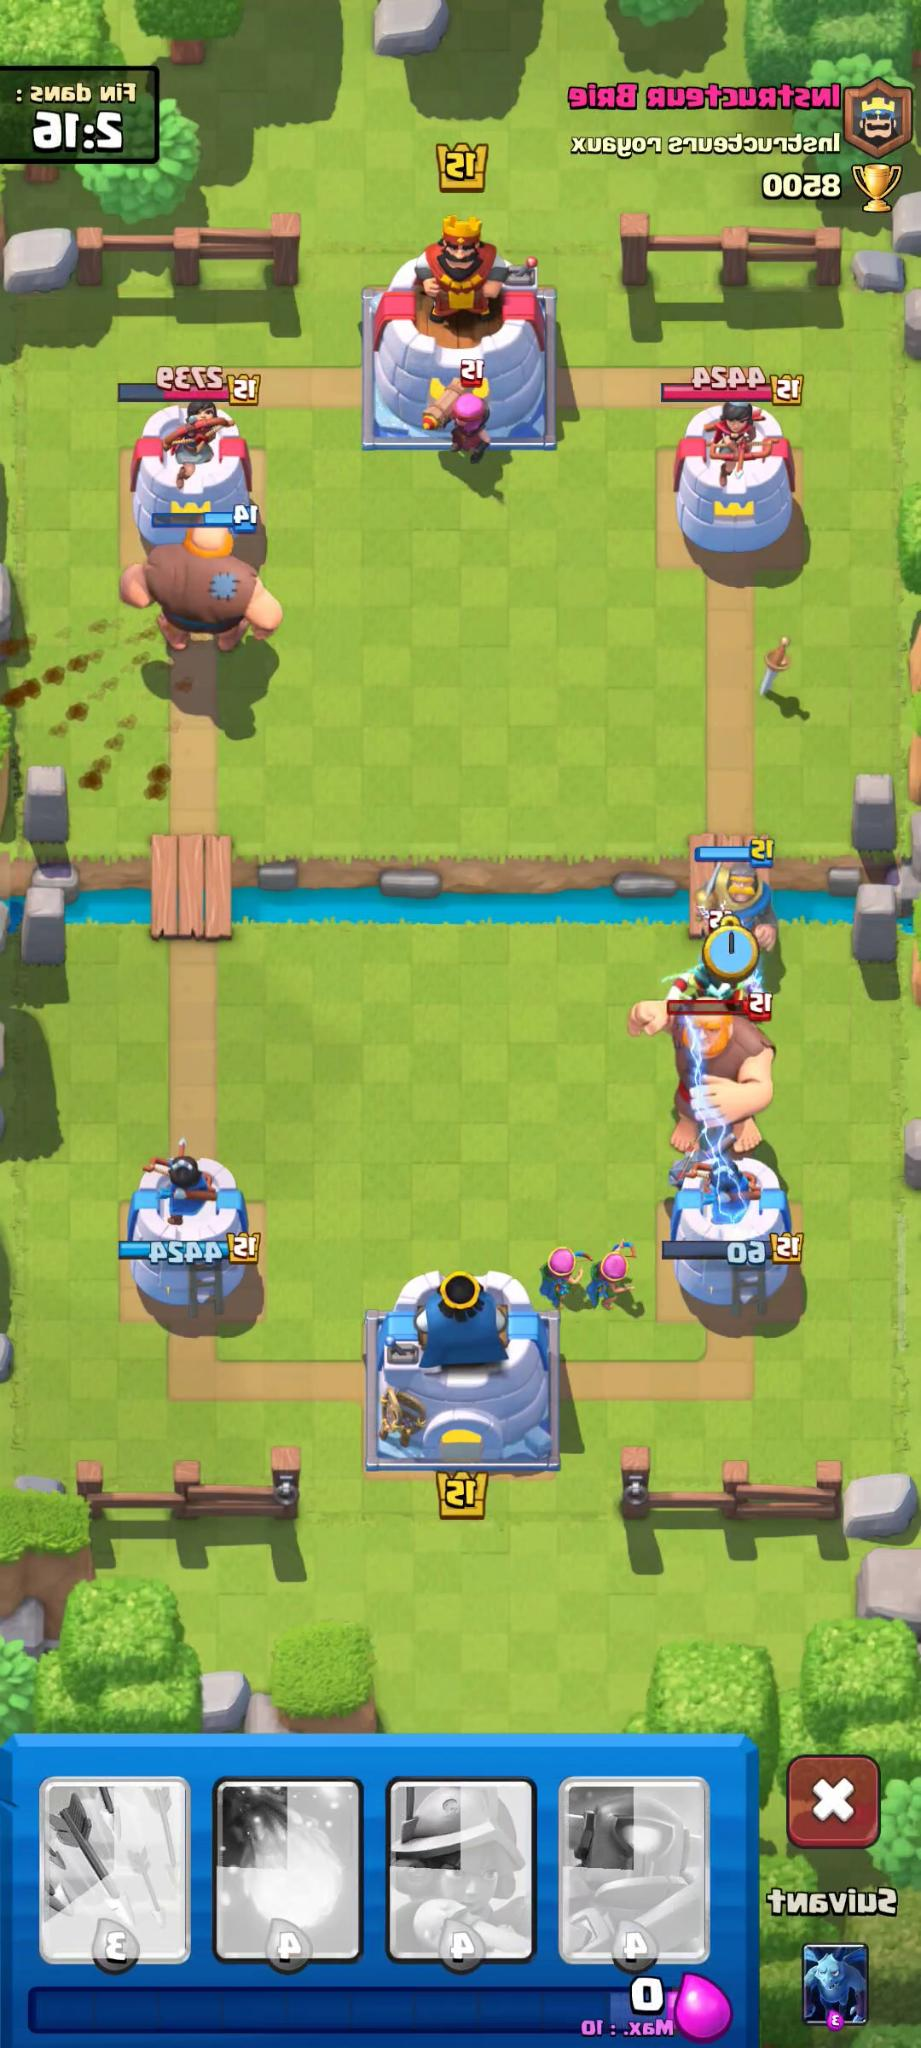archere: (584, 1234, 635, 1307), (540, 1246, 589, 1315)
chevalier: (683, 842, 772, 953)
geant: (627, 990, 773, 1164), (115, 515, 281, 660)
